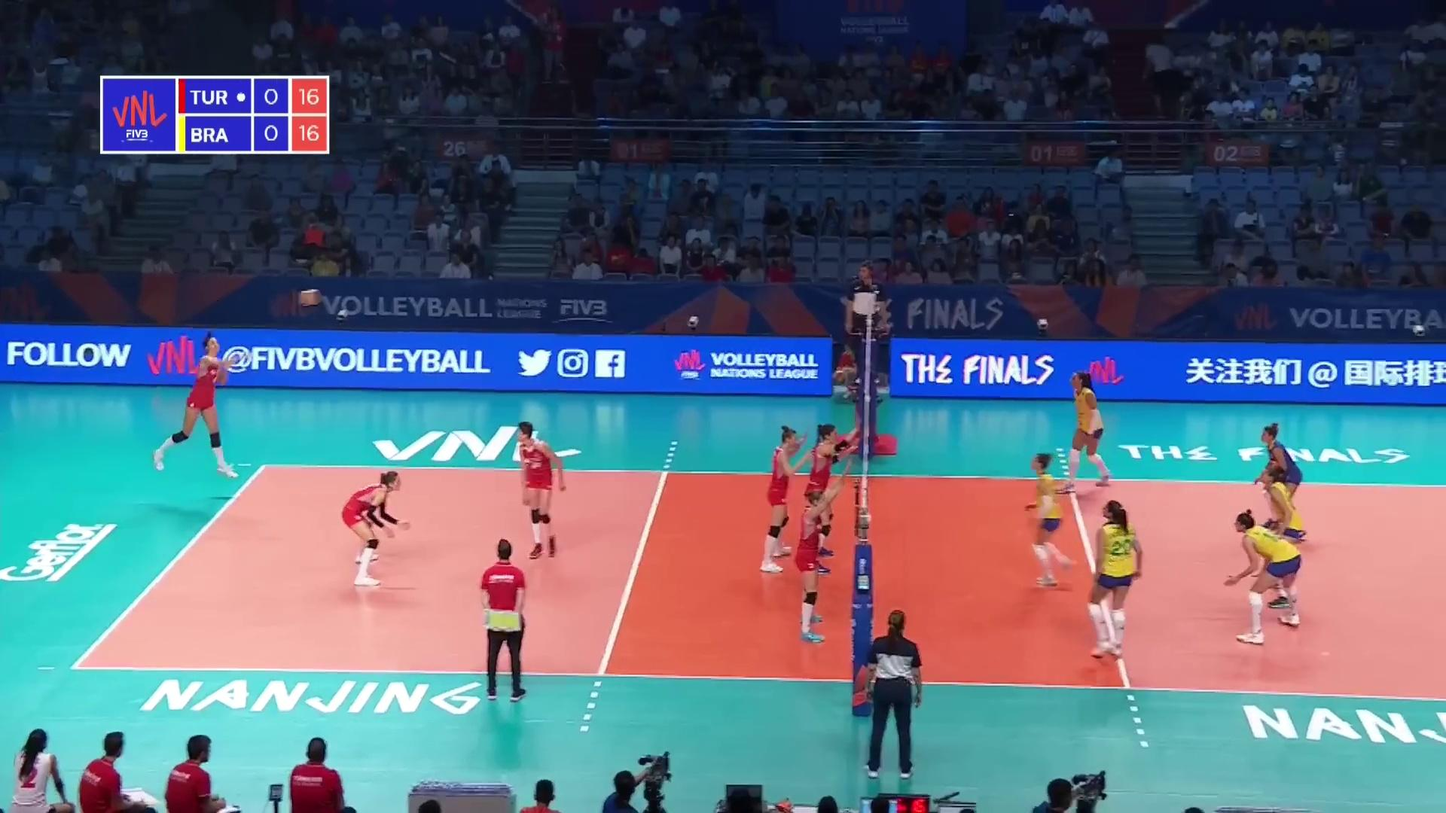player: (1227, 515, 1310, 645), (155, 341, 235, 474), (1087, 508, 1148, 654), (344, 471, 413, 592), (517, 425, 568, 561), (1024, 454, 1073, 592), (1261, 469, 1306, 610), (764, 425, 806, 571), (795, 487, 825, 647), (1069, 375, 1105, 494), (1261, 422, 1300, 522), (814, 426, 844, 547)
refree: (863, 615, 922, 780), (845, 260, 889, 389)
